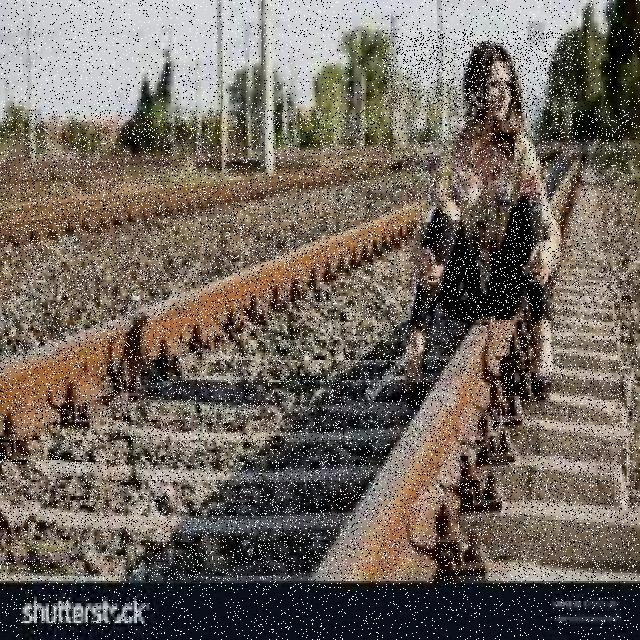danger: (382, 31, 578, 415)
rail: (0, 110, 637, 580)
